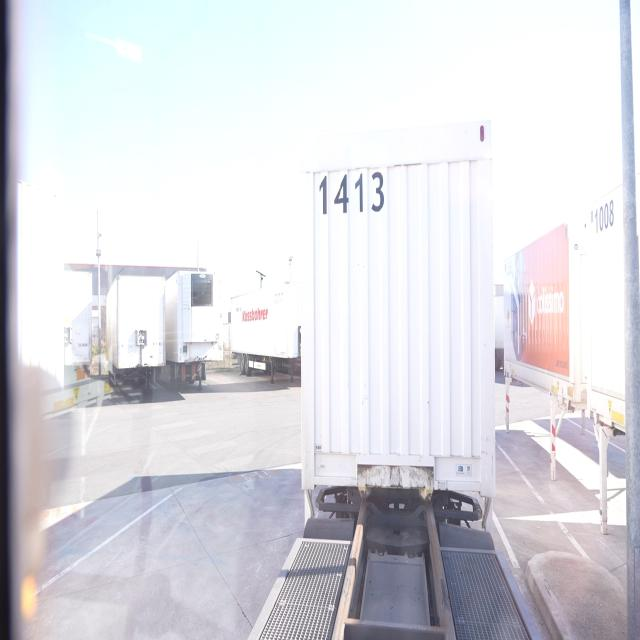Code: (316, 163, 391, 218), (590, 196, 616, 232)
